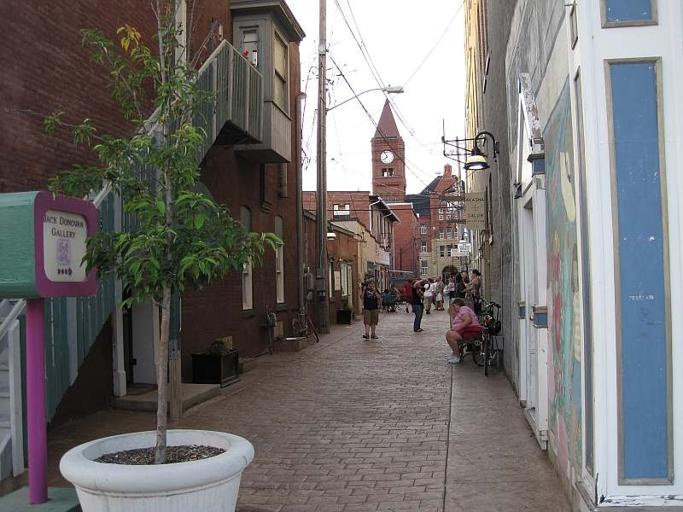non-vehicle: (475, 297, 501, 376), (289, 302, 320, 345)
